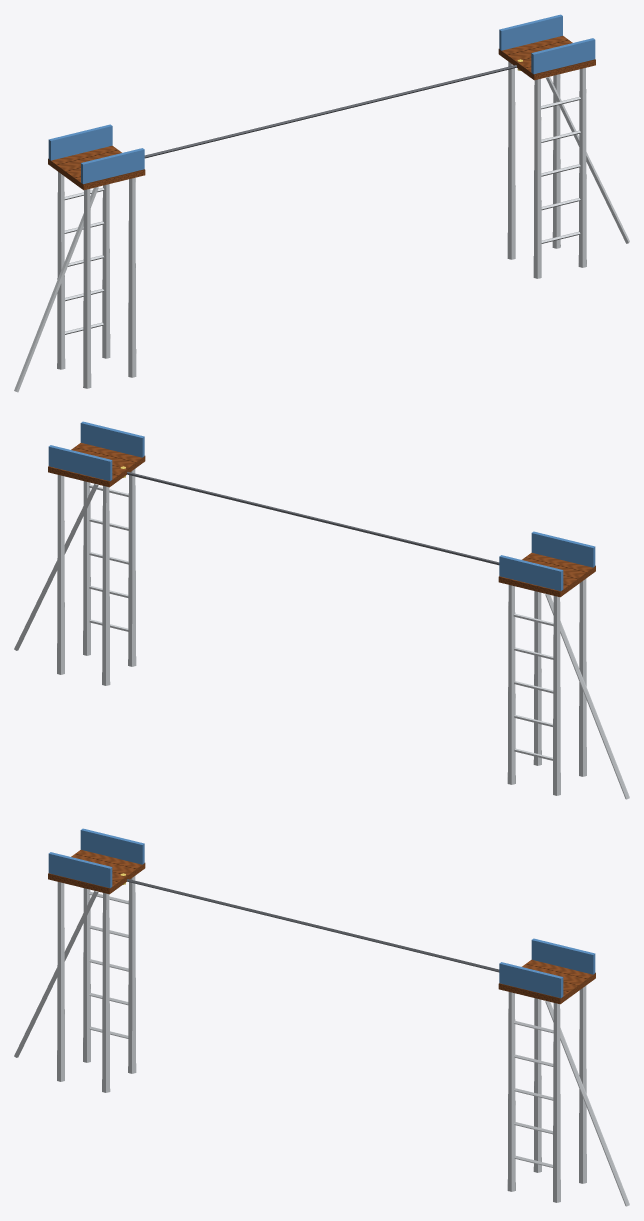
File: travelling-circus-and-big-top-tightrope-and-platforms-2af188a0__36244.glb
3 renders of one model, top to bottom at view 1: azimuth 30°, elevation 25°; view 2: azimuth 150°, elevation 25°; view 3: azimuth 330°, elevation 25°, orthographic.
Visible parts, largest first — view 1: tightrope-and-platforms-steel, tightrope-and-platforms-azure, tightrope-and-platforms-timber, tightrope-and-platforms-charcoal; view 2: tightrope-and-platforms-steel, tightrope-and-platforms-azure, tightrope-and-platforms-timber, tightrope-and-platforms-charcoal; view 3: tightrope-and-platforms-steel, tightrope-and-platforms-azure, tightrope-and-platforms-timber, tightrope-and-platforms-charcoal.
Part boxes in pixels (x1,y1,x2,y2): tightrope-and-platforms-steel: (14,61,629,392); tightrope-and-platforms-azure: (48,14,595,183); tightrope-and-platforms-timber: (48,36,595,190); tightrope-and-platforms-charcoal: (144,65,516,158); tightrope-and-platforms-steel: (14,469,629,799); tightrope-and-platforms-azure: (48,421,595,591); tightrope-and-platforms-timber: (48,443,595,597); tightrope-and-platforms-charcoal: (127,472,499,565); tightrope-and-platforms-steel: (14,876,629,1206); tightrope-and-platforms-azure: (48,828,595,998); tightrope-and-platforms-timber: (48,850,595,1004); tightrope-and-platforms-charcoal: (126,879,499,972).
Bounding box in the file's own units: 11.47 × 4.07 × 1.15.
5 materials, 1 textured.
